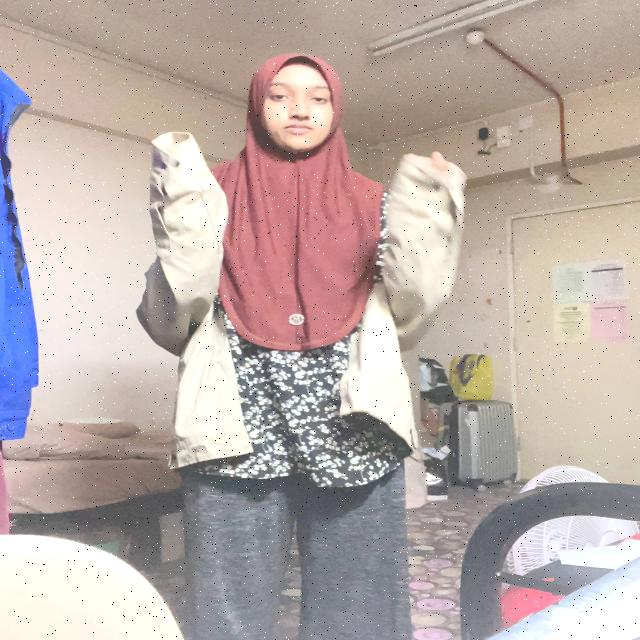person_without_labcoat: (136, 53, 465, 640)
